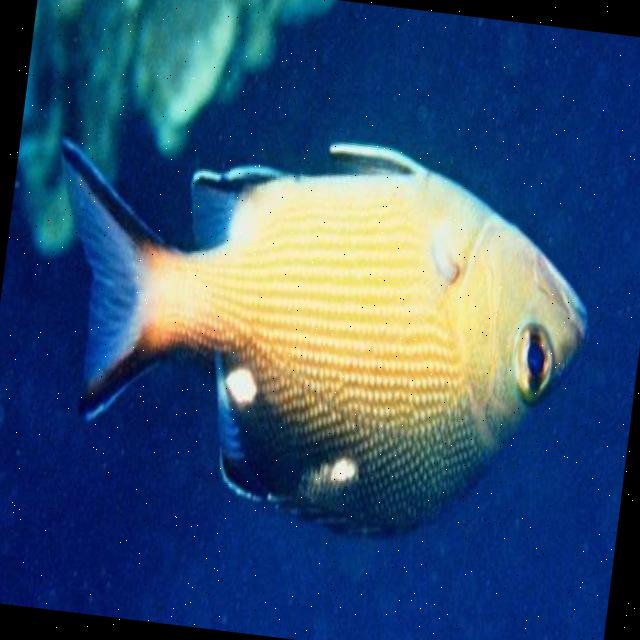ikan: (15, 104, 608, 566)
